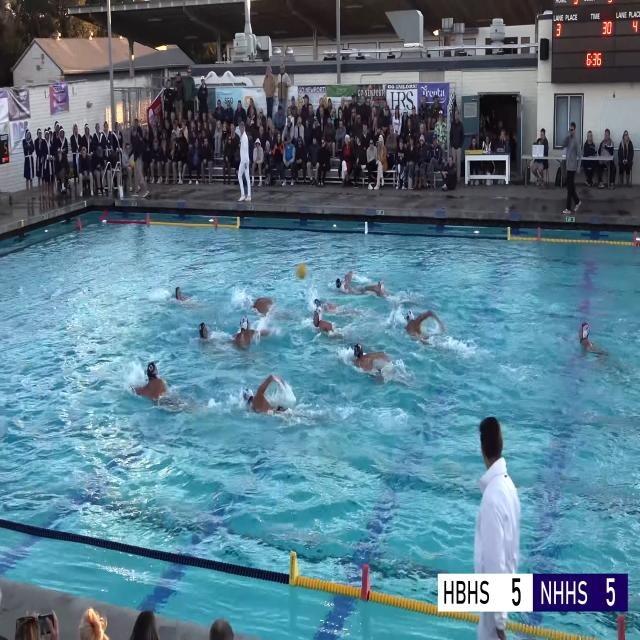ball: (297, 264, 306, 279), (130, 160, 134, 170)
